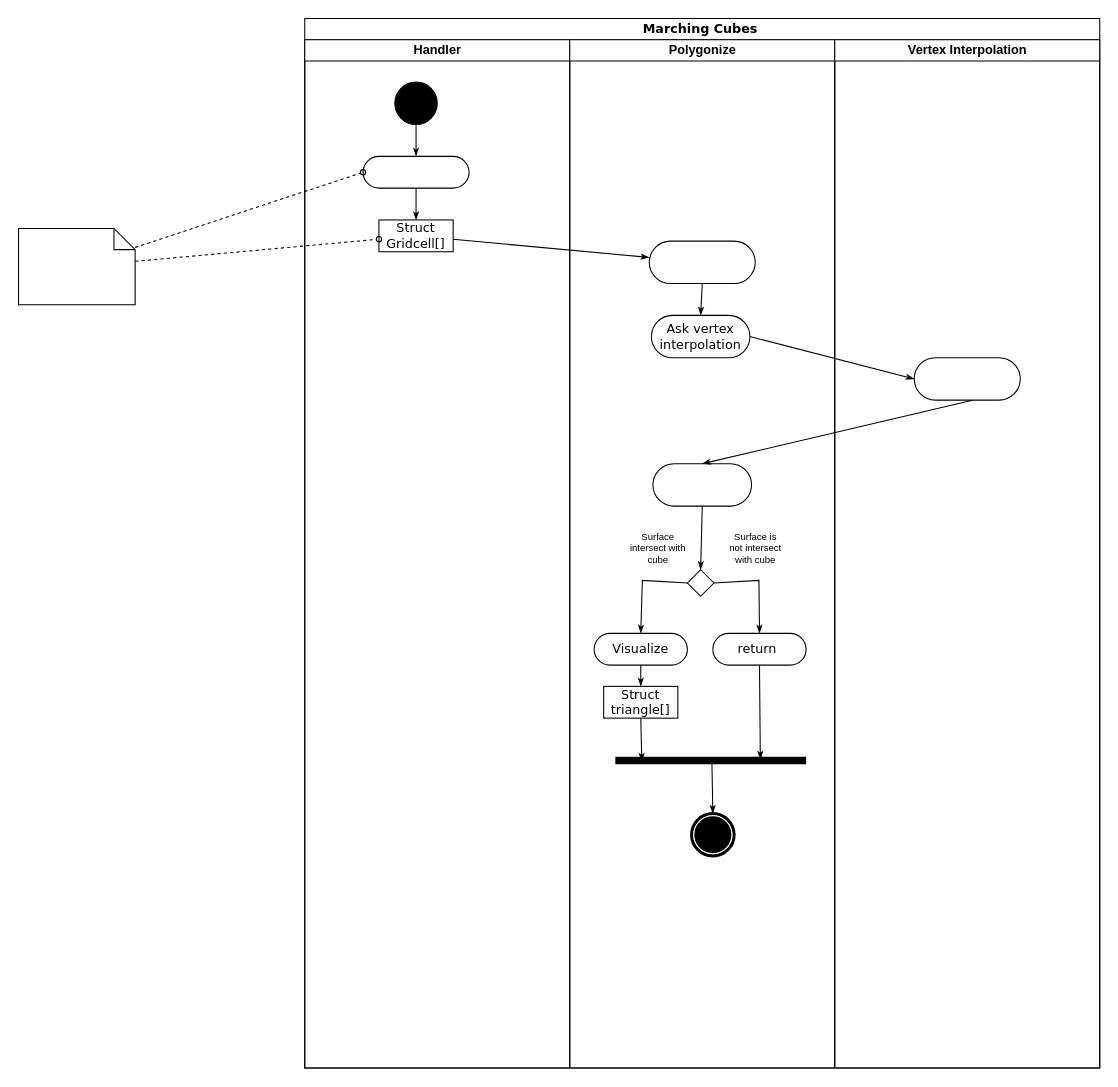
Image size: 1118x1087. Some labels were removed from this diagram. Each missing label, with the centre of its shape:
"Calculate vertex interpolation" goes at (x=966, y=378).
"Consider Rendering Cases" goes at (x=701, y=262).
"Get vertex interpolation" goes at (x=702, y=484).
"Note: Send gridcell vertices and isolevel." goes at (x=76, y=266).
"Send Gridcell" goes at (x=415, y=171).
